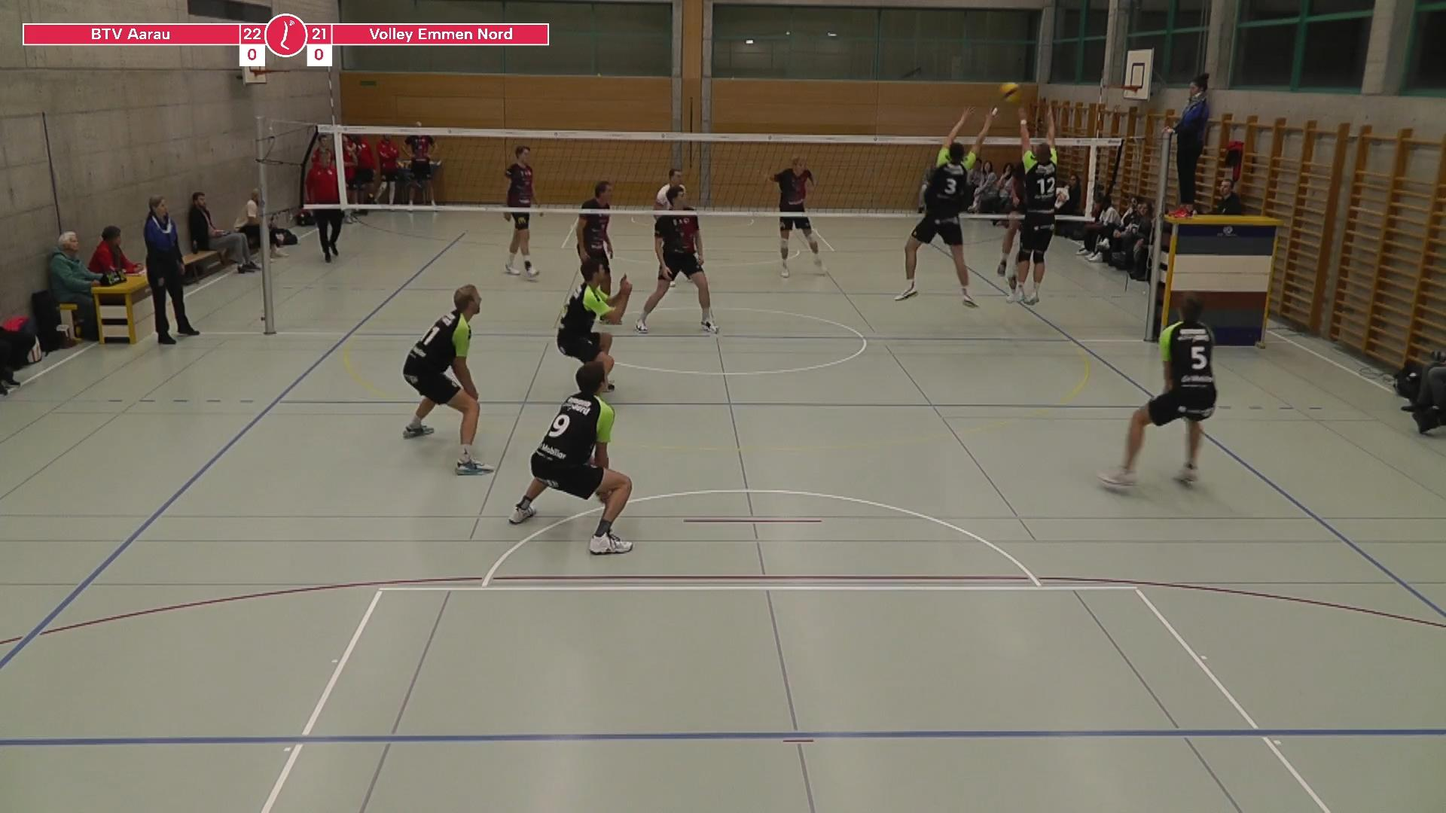Attack: (977, 143, 1029, 296)
Block: (894, 101, 1004, 308), (989, 106, 1075, 315)
Player: (509, 362, 632, 554), (1100, 294, 1216, 486), (403, 285, 493, 473), (635, 186, 718, 333), (557, 257, 632, 373), (769, 156, 825, 277), (575, 181, 612, 265), (504, 212, 538, 280)
ball: (993, 79, 1026, 105)
